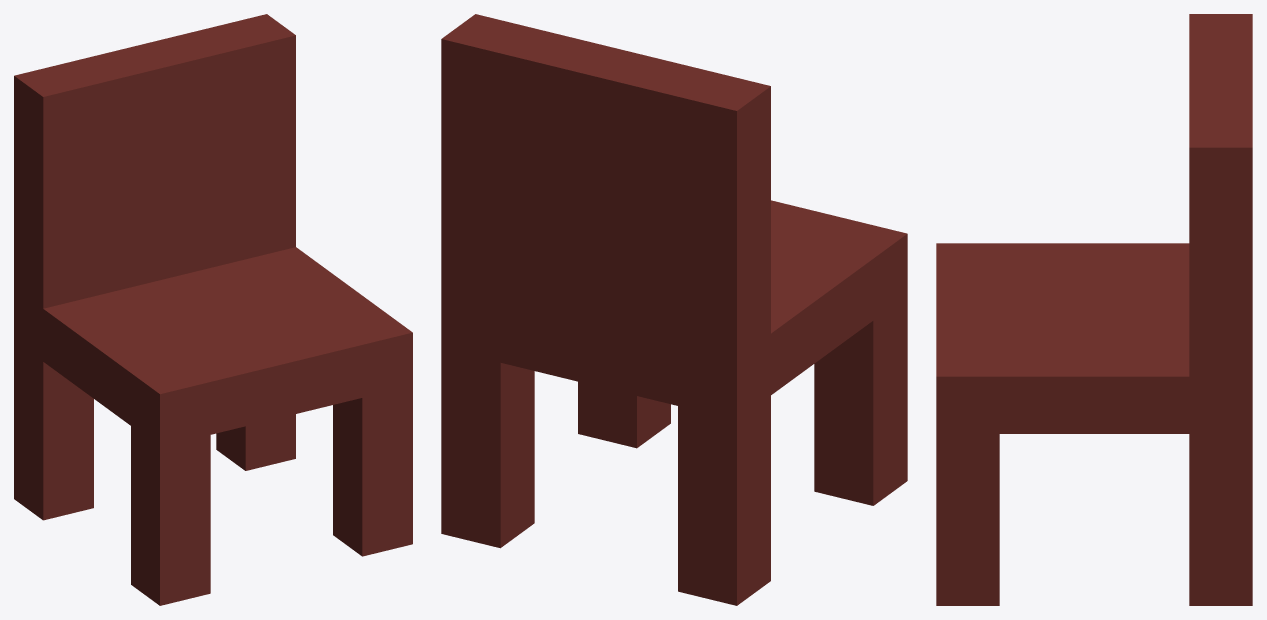
File: chair_b.obj
The picture shows the model from 3 angles, left to right: view 1: azimuth 30°, elevation 25°; view 2: azimuth 150°, elevation 25°; view 3: azimuth 270°, elevation 25°; orthographic projection. The views are drawn at different scales.
Size of the model in its own units: 0.5 by 0.8 by 0.5.
1 material, 1 textured.
